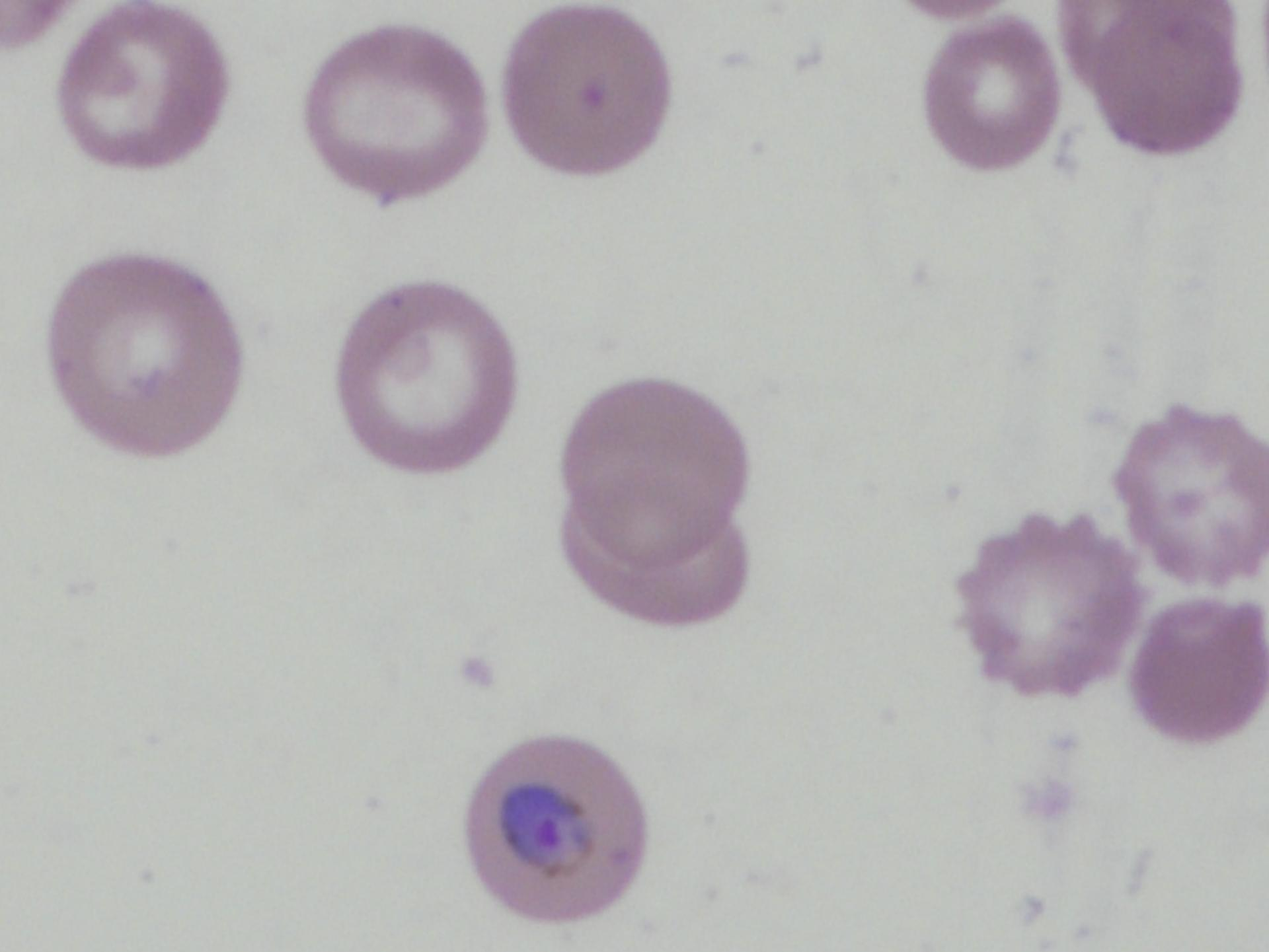Infected: (465, 738, 640, 923)
Uninfected: (46, 256, 245, 451), (958, 507, 1138, 693), (341, 280, 516, 467), (562, 384, 746, 560), (311, 27, 491, 198), (507, 7, 668, 176), (1119, 402, 1269, 580), (62, 7, 222, 166), (568, 496, 752, 623), (925, 16, 1063, 170), (1135, 600, 1269, 740)
